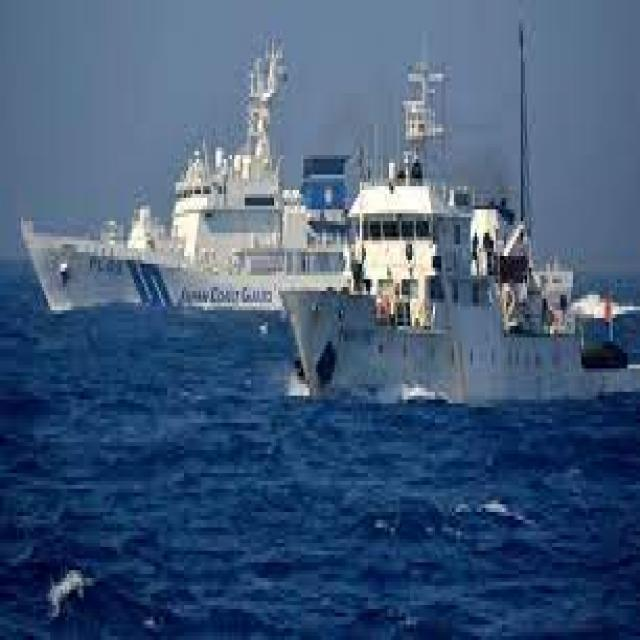Ship: (268, 8, 640, 416), (16, 28, 368, 327)
